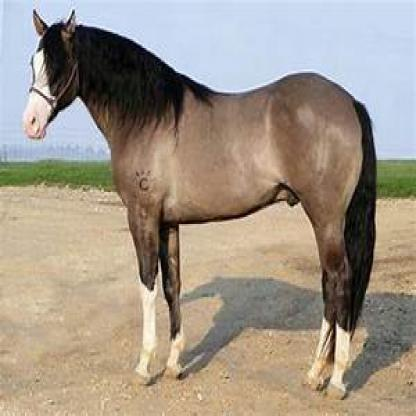horse: (22, 9, 377, 400)
